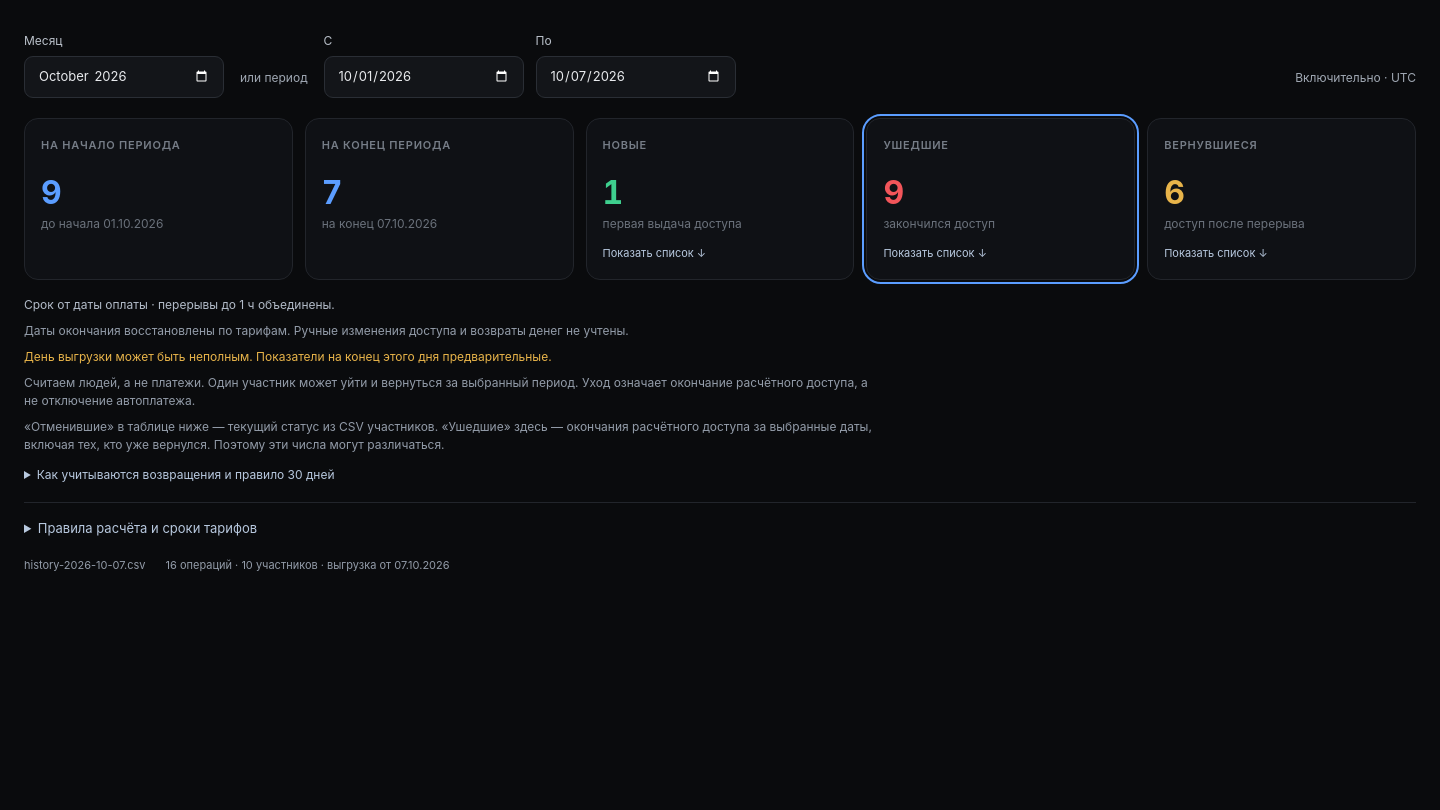
HistoryReport participant lists › supports keyboard activation and restores focus when the list closes
The width and height of the screenshot is (1440, 810).
Press Enter
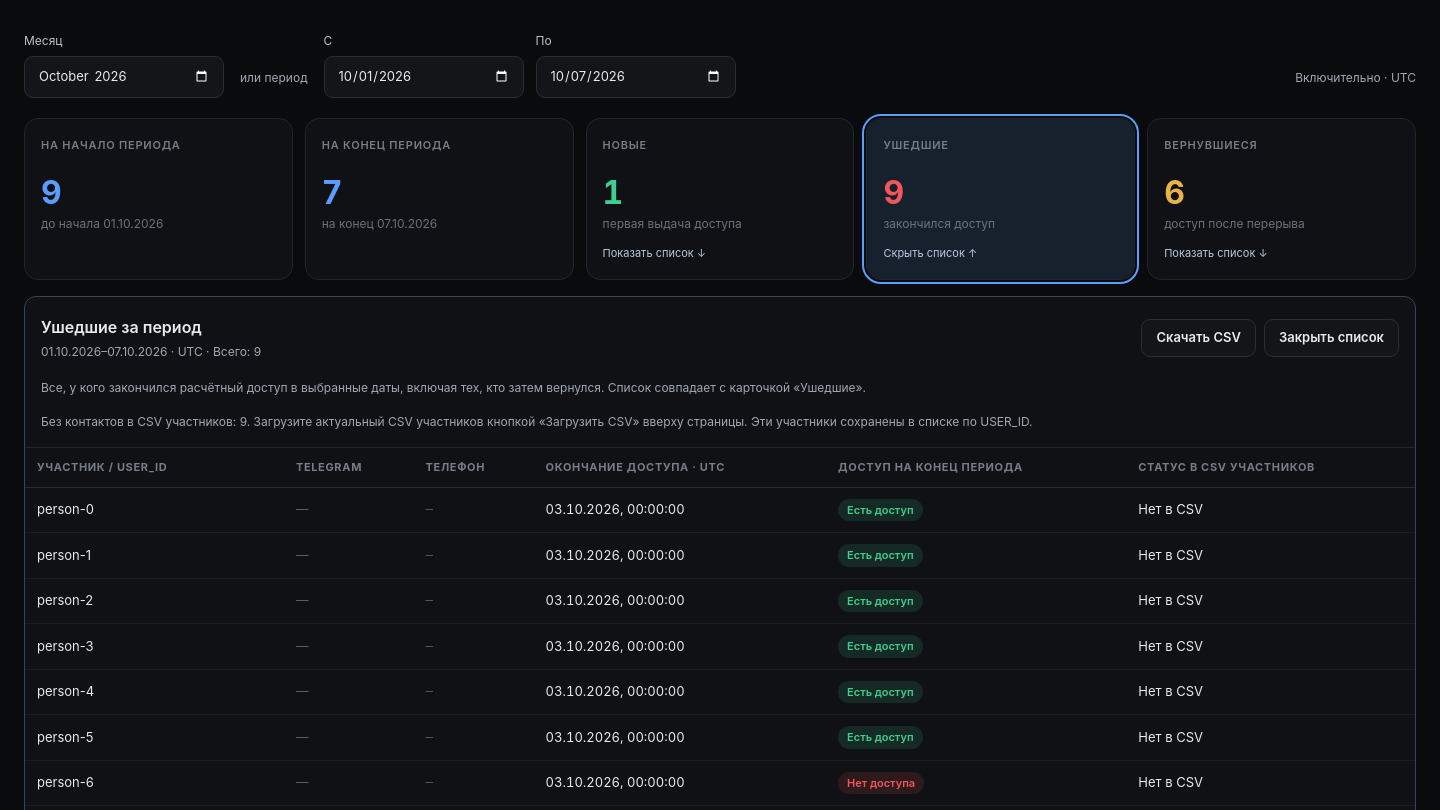
Click the button "Закрыть список".
click(1331, 338)  # box [1264, 319, 1399, 357]
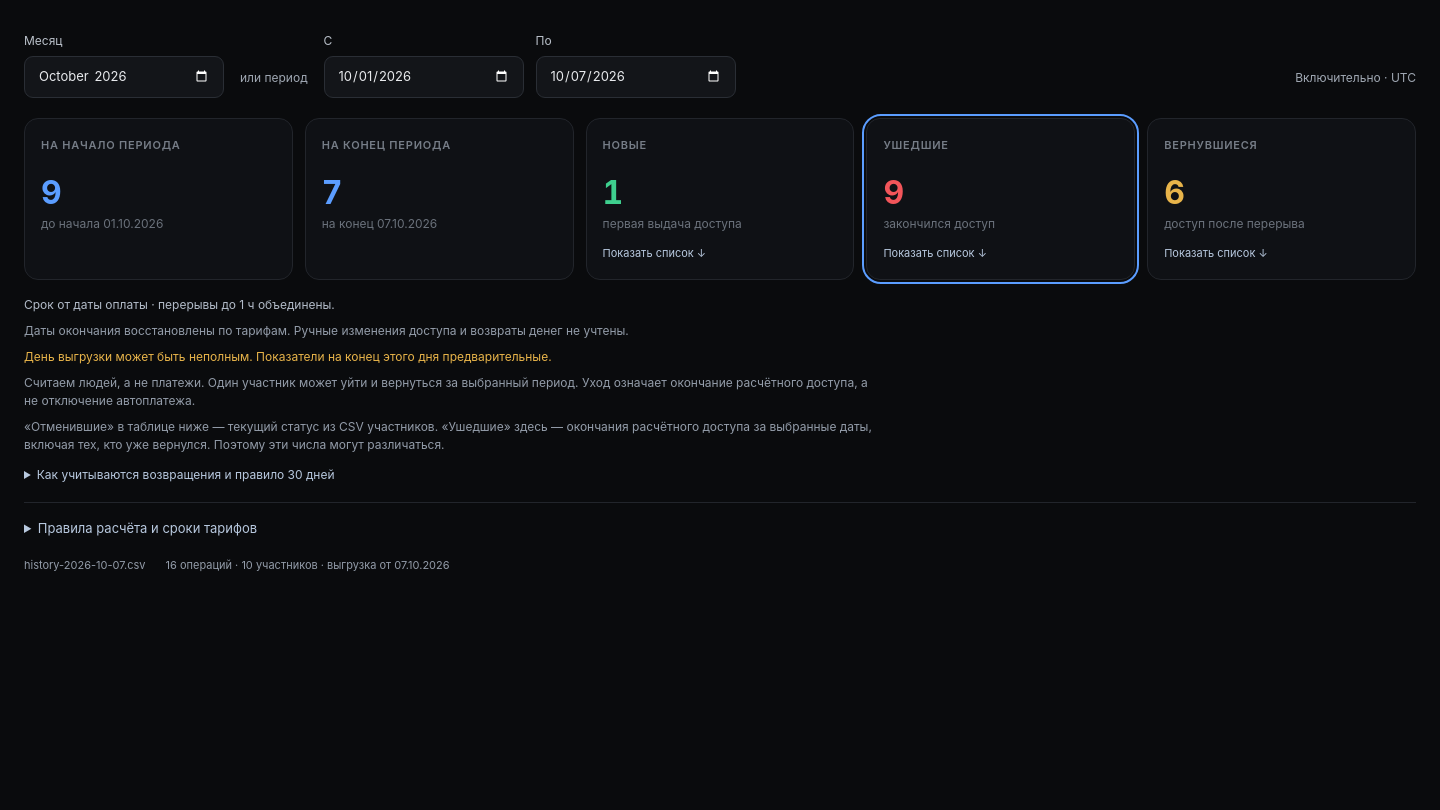
Now the heading "Ушедшие за период" is gone
